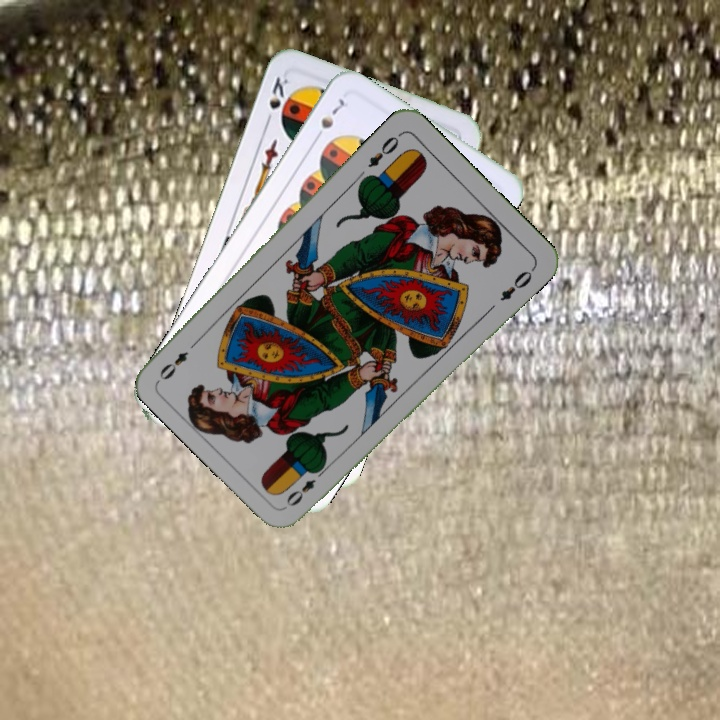EO: (282, 463, 329, 510), (363, 129, 404, 171)
S7: (309, 94, 352, 144)
SK: (261, 72, 291, 128)
